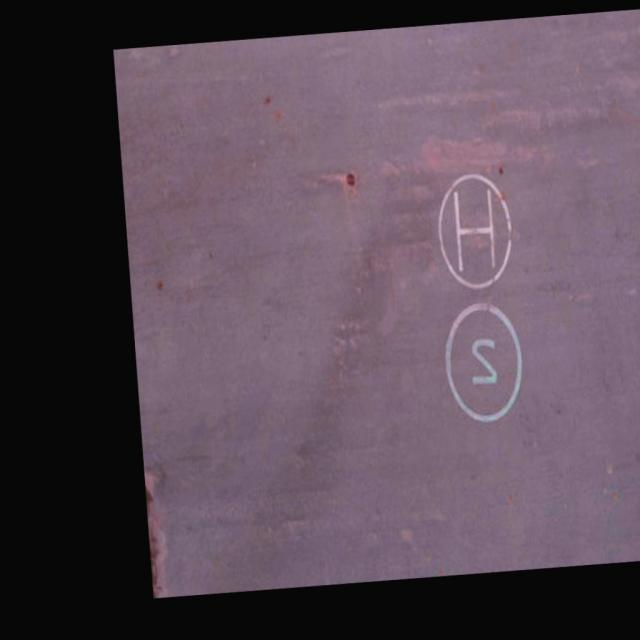helipad: (432, 168, 516, 291)
